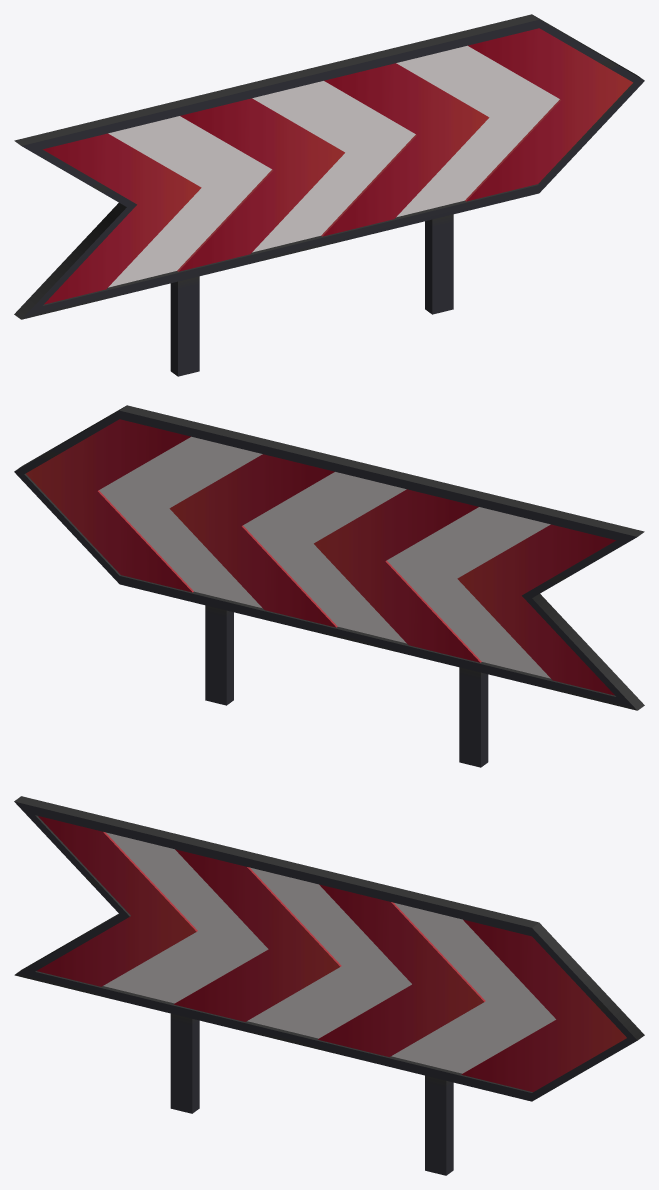
The model's file is Arrow.fbx.
The picture shows the model from 3 angles, top to bottom: view 1: azimuth 30°, elevation 25°; view 2: azimuth 150°, elevation 25°; view 3: azimuth 330°, elevation 25°; orthographic projection.
Visible parts, largest first — view 1: Arrow; view 2: Arrow; view 3: Arrow.
Part boxes in pixels (x1,y1,x2,y2): Arrow: (14, 14, 644, 376); Arrow: (14, 405, 644, 767); Arrow: (14, 796, 644, 1175).
Size of the model in its own units: 175 by 72.27 by 3.58.
